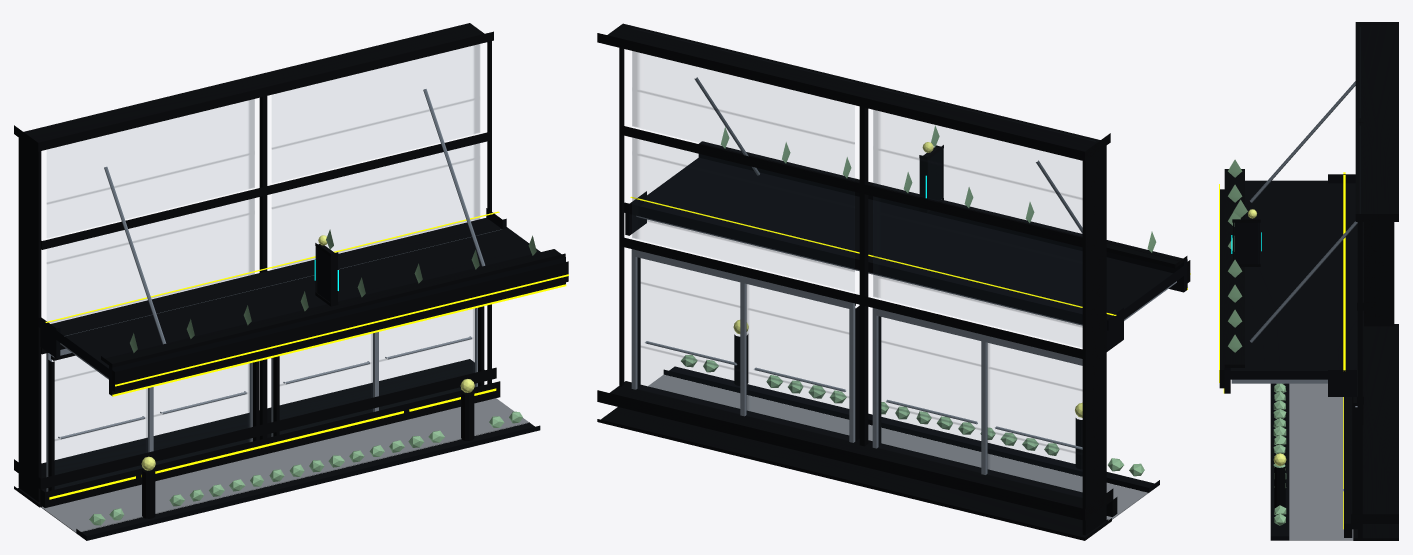
The model's file is v1_court.glb.
The picture shows the model from 3 angles, left to right: view 1: azimuth 30°, elevation 25°; view 2: azimuth 150°, elevation 25°; view 3: azimuth 270°, elevation 25°; orthographic projection. The views are drawn at different scales.
Parts seen in each view (by area): view 1: Frame, Canopy, Fascia_Gunmetal, Threshold_Mat, Terrace_Kerb, Fascia_Slate, Court_Line_LED, Hedge_Edge, Door_Stiles, Tie_Rods, Glass_Upper_00, Glass_Upper_10 (+7 smaller); view 2: Frame, Canopy, Door_Stiles, Threshold_Mat, Terrace_Kerb, Fascia_Slate, Hedge_Edge, Fascia_Gunmetal, Glass_Upper_10, Glass_Upper_00, Glass_Upper_11, Glass_Door_01 (+11 smaller); view 3: Frame, Canopy, Threshold_Mat, Fascia_Gunmetal, Terrace_Kerb, Tie_Rods, Hedge_Edge, Blade_Core, Fascia_Leaf_Crests, Court_Line_LED, Canopy_Soffit, Ball_Bollards (+1 smaller).
Part boxes in pixels (left/top/right/bottom): Frame: left=14, top=23, right=500, bottom=507; Canopy: left=38, top=208, right=540, bottom=377; Fascia_Gunmetal: left=101, top=249, right=568, bottom=392; Threshold_Mat: left=41, top=398, right=529, bottom=532; Terrace_Kerb: left=76, top=422, right=540, bottom=540; Fascia_Slate: left=109, top=257, right=565, bottom=395; Court_Line_LED: left=45, top=211, right=568, bottom=396; Hedge_Edge: left=89, top=411, right=522, bottom=525; Door_Stiles: left=46, top=308, right=477, bottom=491; Tie_Rods: left=104, top=89, right=485, bottom=344; Glass_Upper_00: left=47, top=198, right=254, bottom=323; Glass_Upper_10: left=272, top=143, right=479, bottom=268; Frame: left=597, top=23, right=1117, bottom=540; Canopy: left=624, top=157, right=1183, bottom=351; Door_Stiles: left=631, top=249, right=1082, bottom=474; Threshold_Mat: left=648, top=374, right=1148, bottom=520; Terrace_Kerb: left=663, top=366, right=1159, bottom=492; Fascia_Slate: left=698, top=143, right=1187, bottom=292; Hedge_Edge: left=681, top=355, right=1144, bottom=476; Fascia_Gunmetal: left=699, top=141, right=1190, bottom=283; Glass_Upper_10: left=632, top=138, right=854, bottom=271; Glass_Upper_00: left=873, top=196, right=1082, bottom=327; Glass_Upper_11: left=632, top=51, right=854, bottom=144; Glass_Door_01: left=877, top=316, right=980, bottom=447; Frame: left=1344, top=22, right=1398, bottom=540; Canopy: left=1230, top=174, right=1356, bottom=396; Threshold_Mat: left=1289, top=383, right=1353, bottom=540; Fascia_Gunmetal: left=1219, top=169, right=1244, bottom=388; Terrace_Kerb: left=1270, top=383, right=1289, bottom=540; Tie_Rods: left=1250, top=81, right=1357, bottom=342; Hedge_Edge: left=1273, top=383, right=1286, bottom=525; Blade_Core: left=1234, top=222, right=1258, bottom=264; Fascia_Leaf_Crests: left=1228, top=159, right=1242, bottom=352; Court_Line_LED: left=1219, top=172, right=1345, bottom=393; Canopy_Soffit: left=1231, top=379, right=1327, bottom=383; Ball_Bollards: left=1274, top=466, right=1285, bottom=507.
Size of what is drawn, in the model's own units: 8 by 6.1 by 3.04.
10 materials, 5 textured.
